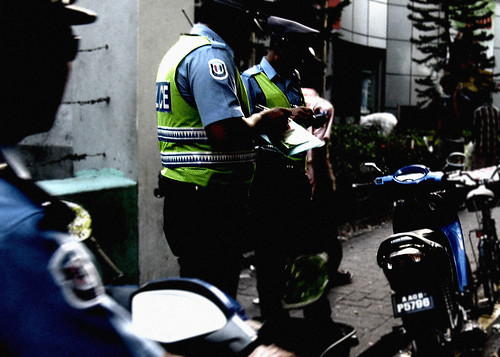motorcycle: (366, 168, 475, 357)
policeman: (246, 18, 352, 299), (156, 1, 262, 281)
tree: (409, 1, 489, 122)
